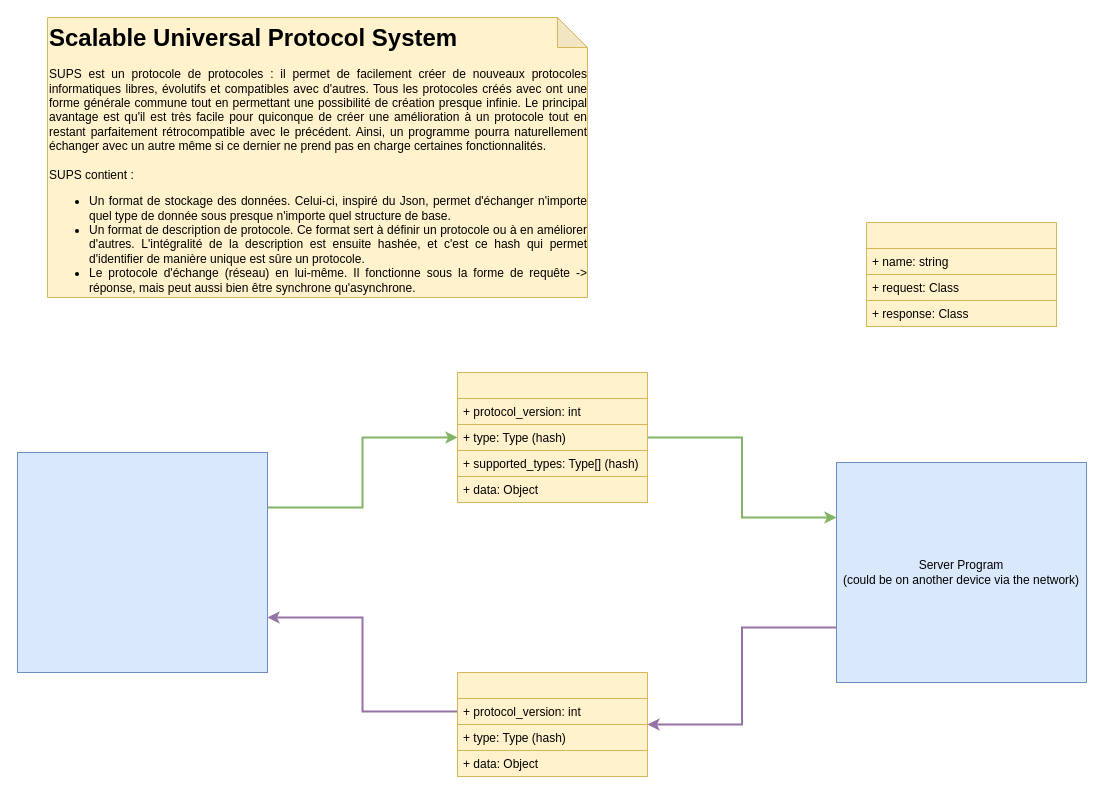
This 1104x797 diagram has some shape labels left out. Each missing label, with the box of its shape:
Client Program: (16, 452, 268, 672)
Request: (456, 372, 648, 502)
Response: (456, 672, 648, 776)
Type: (866, 222, 1056, 326)
